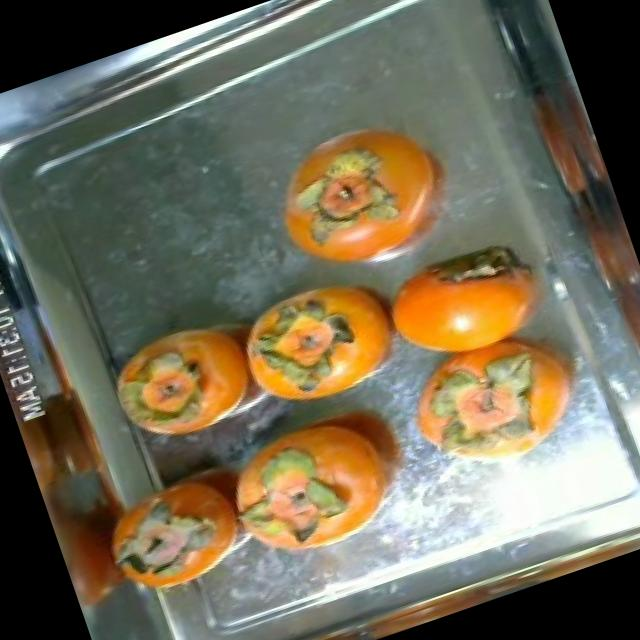Fruit: (247, 103, 439, 289), (96, 294, 286, 451), (386, 332, 555, 498)
